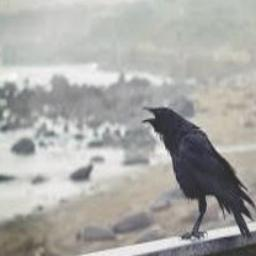Crow: (140, 104, 256, 242)
